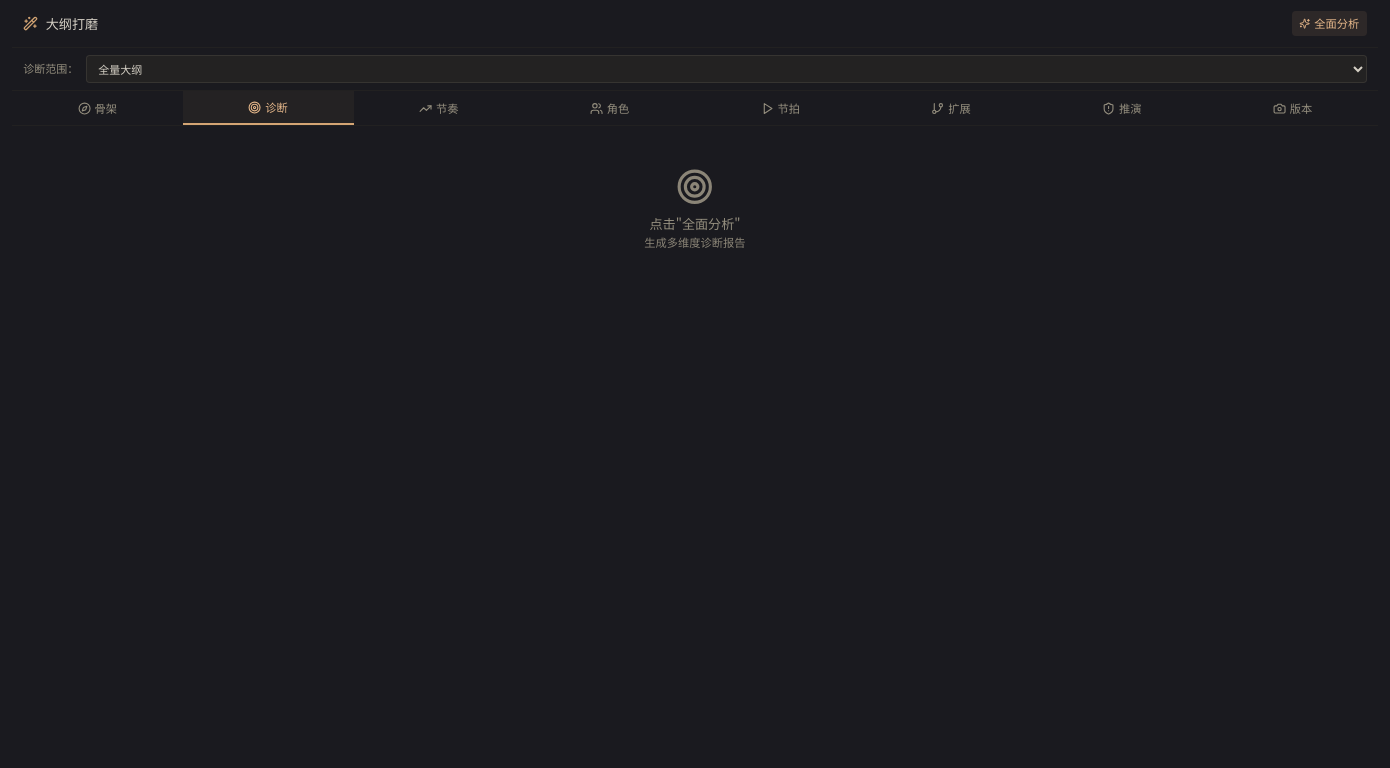
OutlinePolishPanel › 已生成冲突罗盘时按钮文案变为"重新生成冲突罗盘"
The image size is (1390, 768).
Step 1. Click the button "骨架" → (97, 108), box [12,91,183,125]
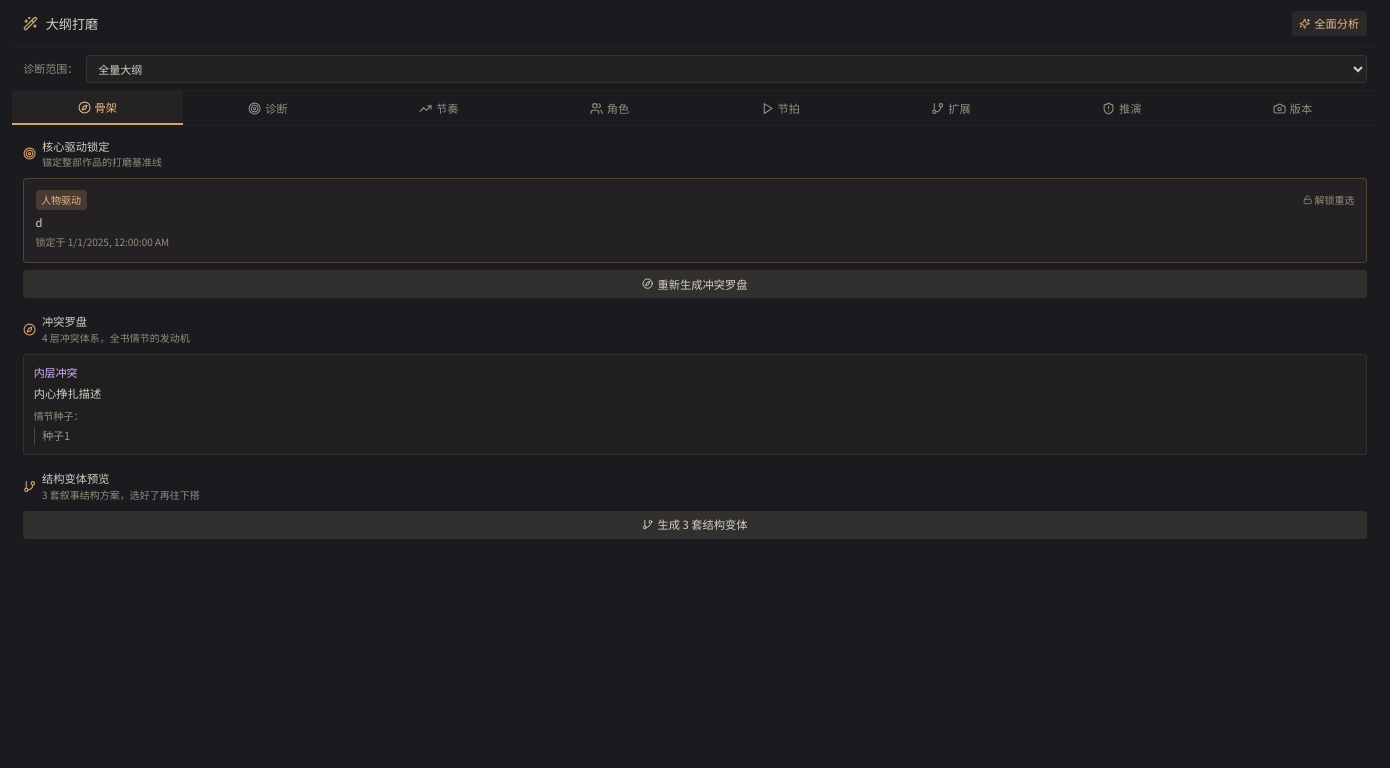
Result: the button "重新生成冲突罗盘" is shown at [23,270,1367,298]
Result: the text "冲突罗盘" is shown at [42,313,87,329]
Result: the text "内心挣扎描述" is shown at [34,385,101,401]
